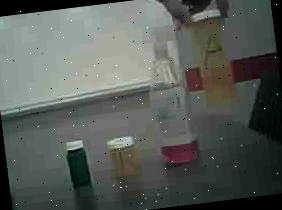Bottle A: (180, 3, 250, 116)
Bottle B: (102, 124, 144, 184)
Bottle C: (60, 133, 97, 195)
hazard: (135, 20, 197, 178)
